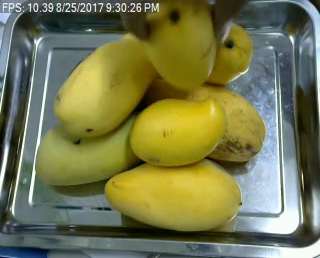Mango: (138, 78, 265, 163), (53, 40, 162, 137), (105, 156, 241, 230), (36, 109, 157, 183), (126, 97, 226, 166), (144, 0, 216, 90), (190, 21, 252, 84)
